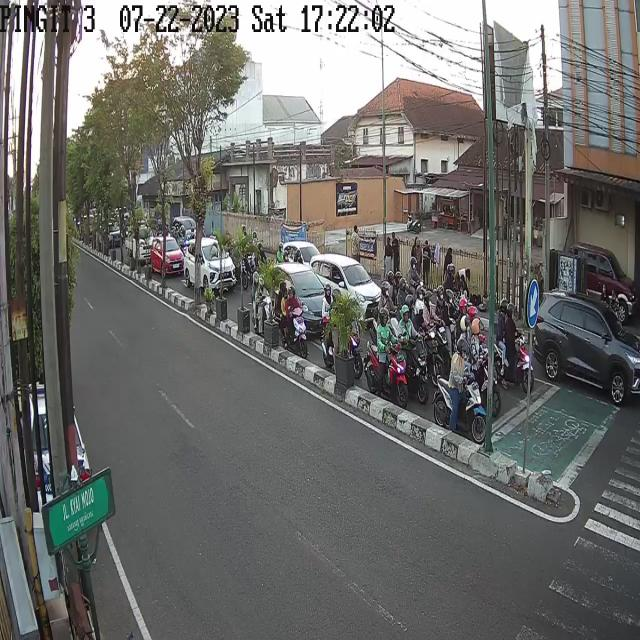car: (531, 292, 640, 407), (556, 242, 636, 322), (308, 254, 384, 310), (184, 239, 234, 296), (283, 242, 326, 274), (149, 236, 184, 274), (173, 215, 202, 242)
motorcycle: (434, 335, 482, 441), (458, 314, 500, 418), (366, 302, 404, 408), (324, 282, 361, 383), (495, 297, 530, 395), (395, 305, 427, 408), (407, 296, 441, 387), (276, 284, 304, 364), (252, 273, 272, 342)
truck: (126, 226, 158, 268)
